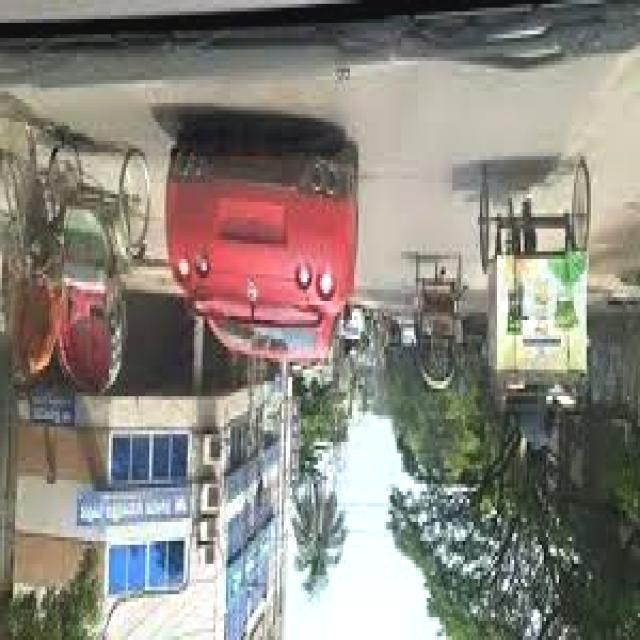red: (143, 80, 390, 410)
